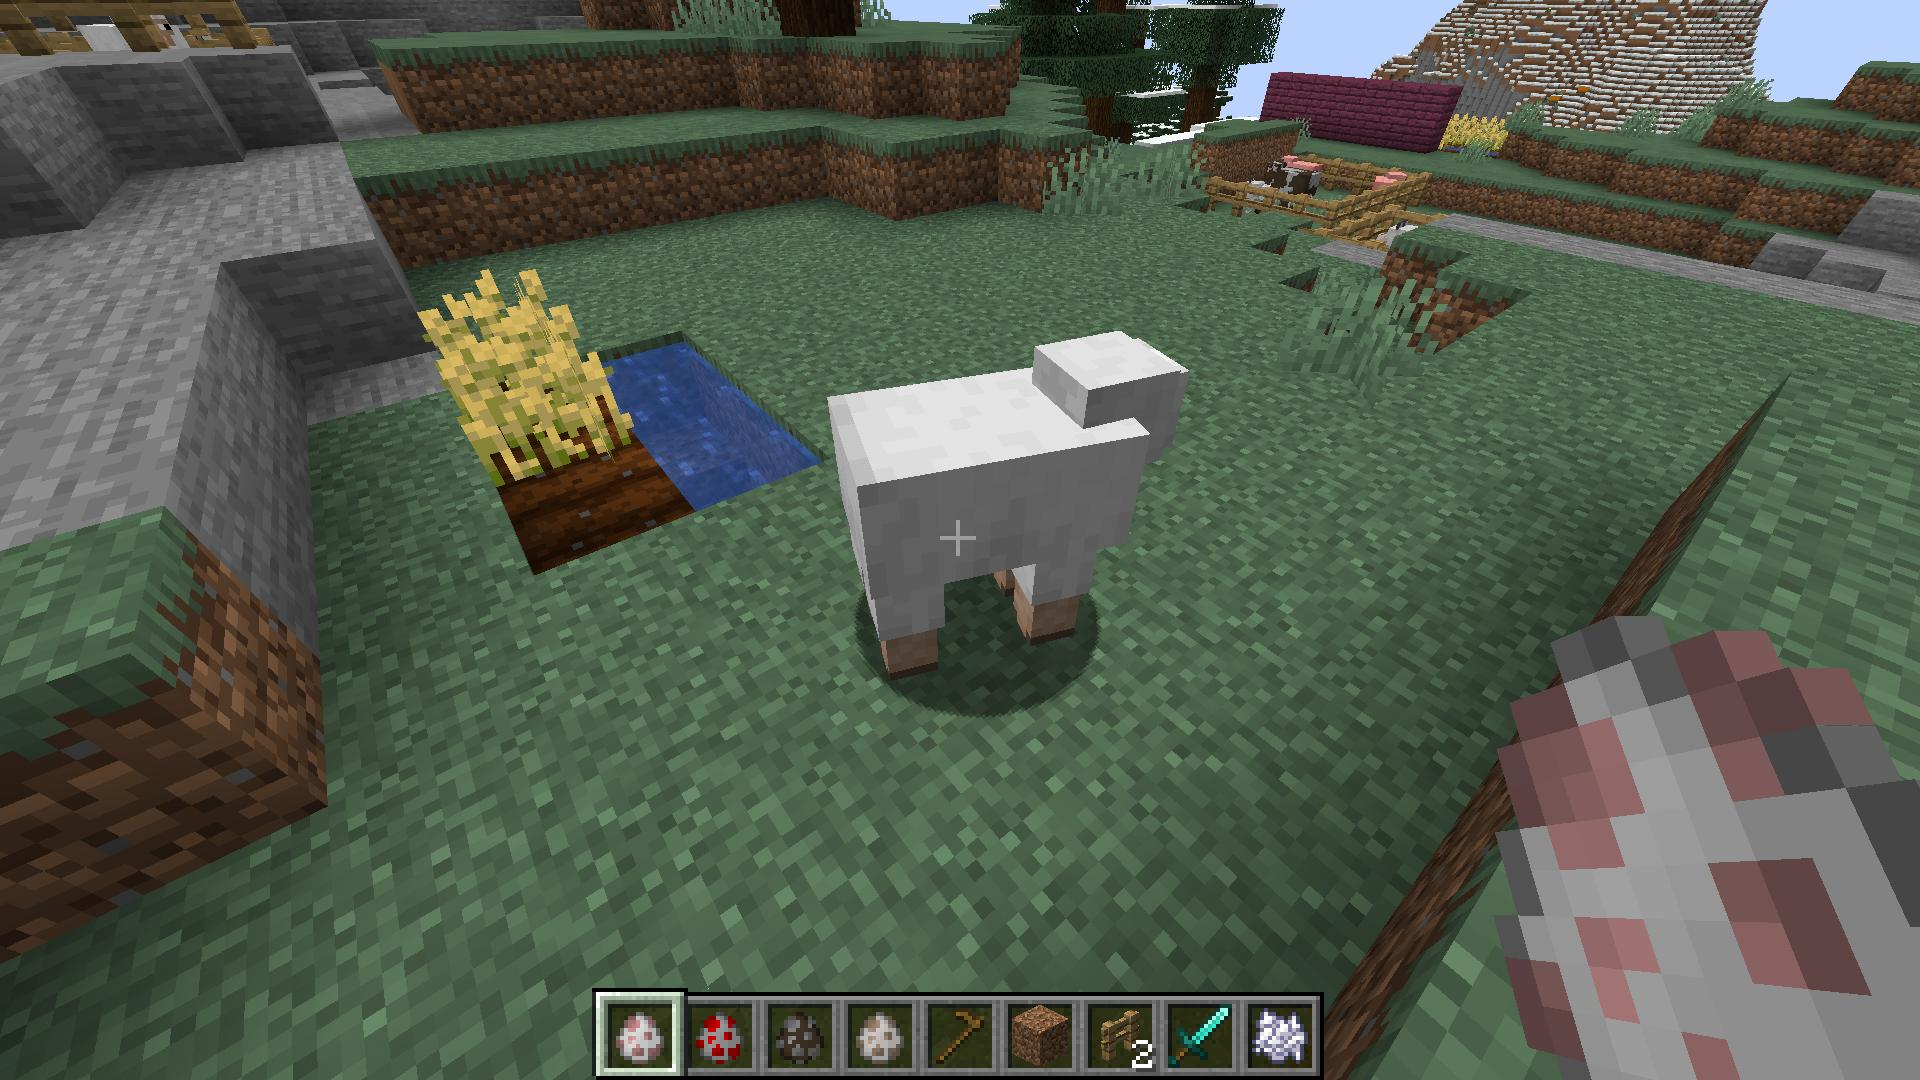sheep: (824, 327, 1193, 683)
